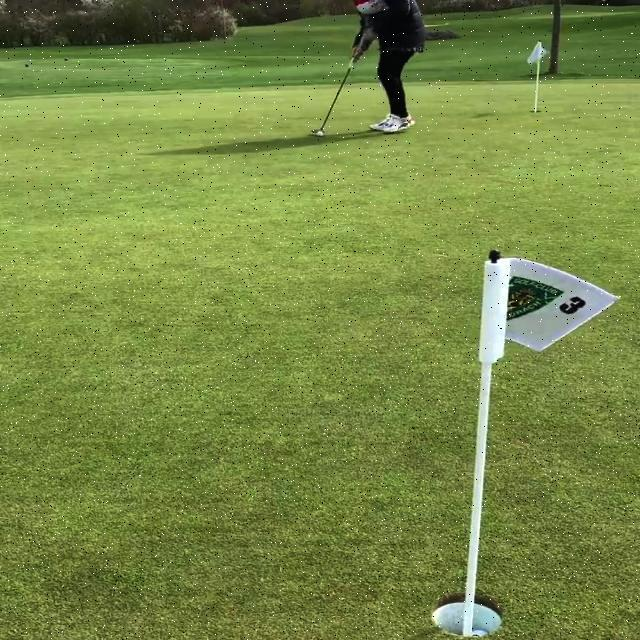ClubHead: (311, 129, 324, 133)
GolfBall: (317, 132, 324, 136)
